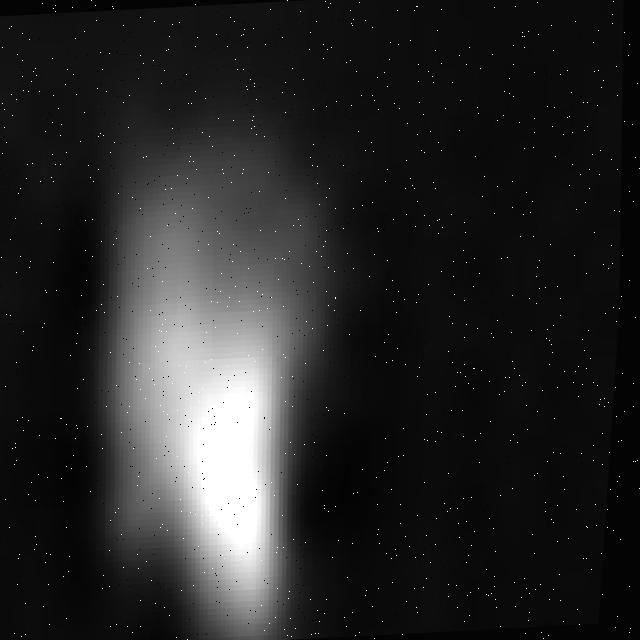person: (69, 113, 401, 640)
